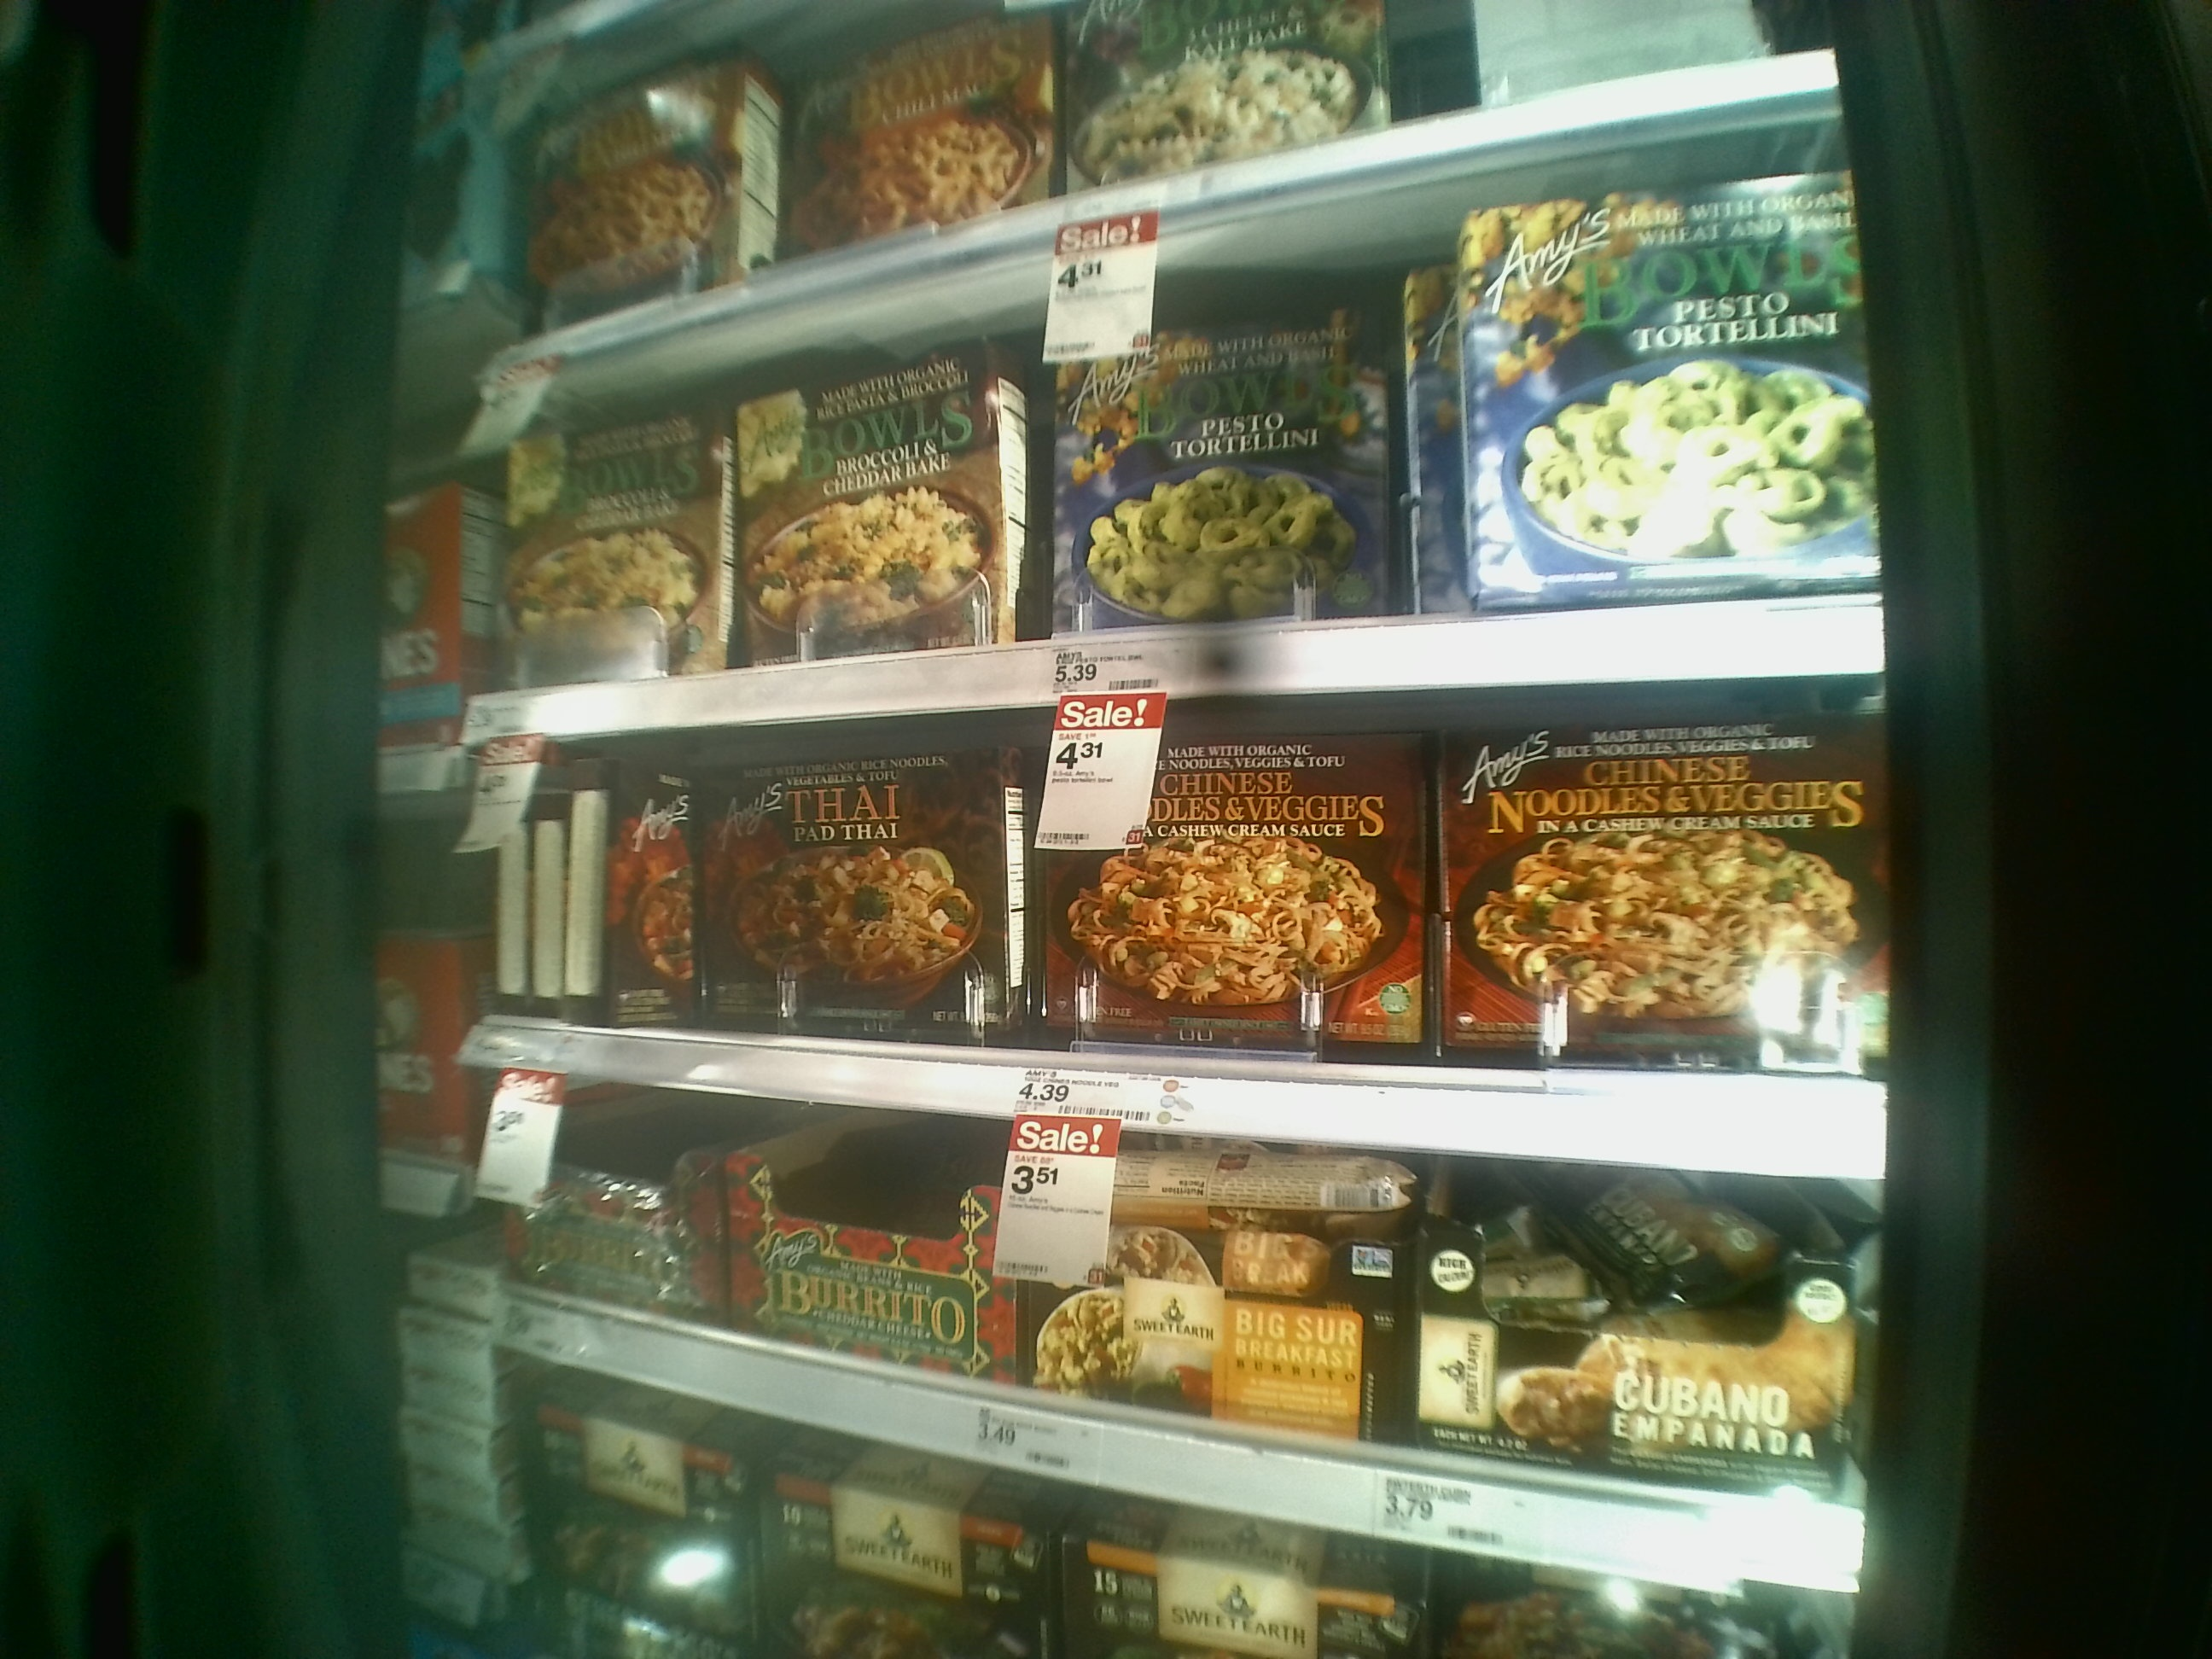shelf: (469, 92, 1865, 741), (470, 1058, 1895, 1603), (467, 683, 1898, 1182)
